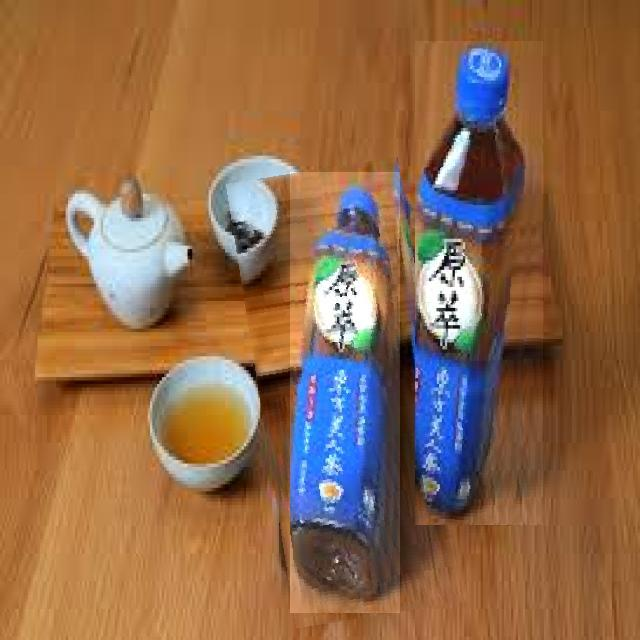YuanTsui_MeiRen: (415, 41, 543, 525), (290, 172, 400, 613)
